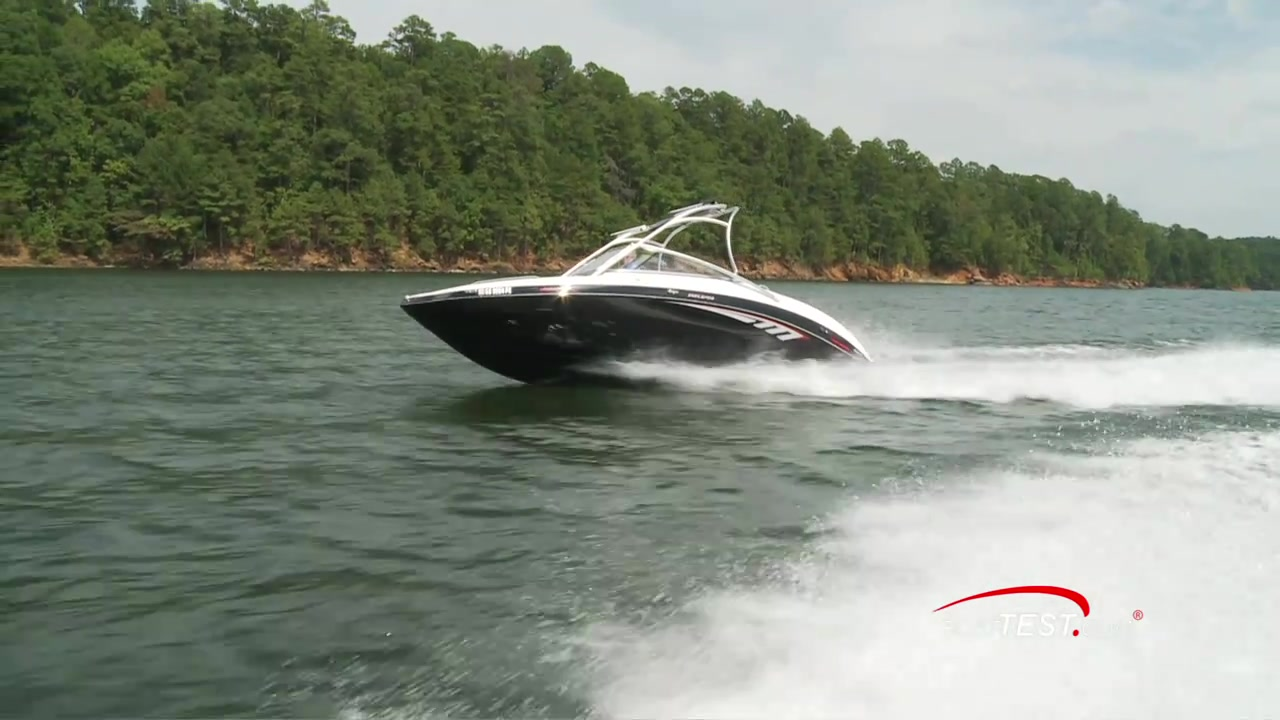boat: (398, 195, 878, 387)
